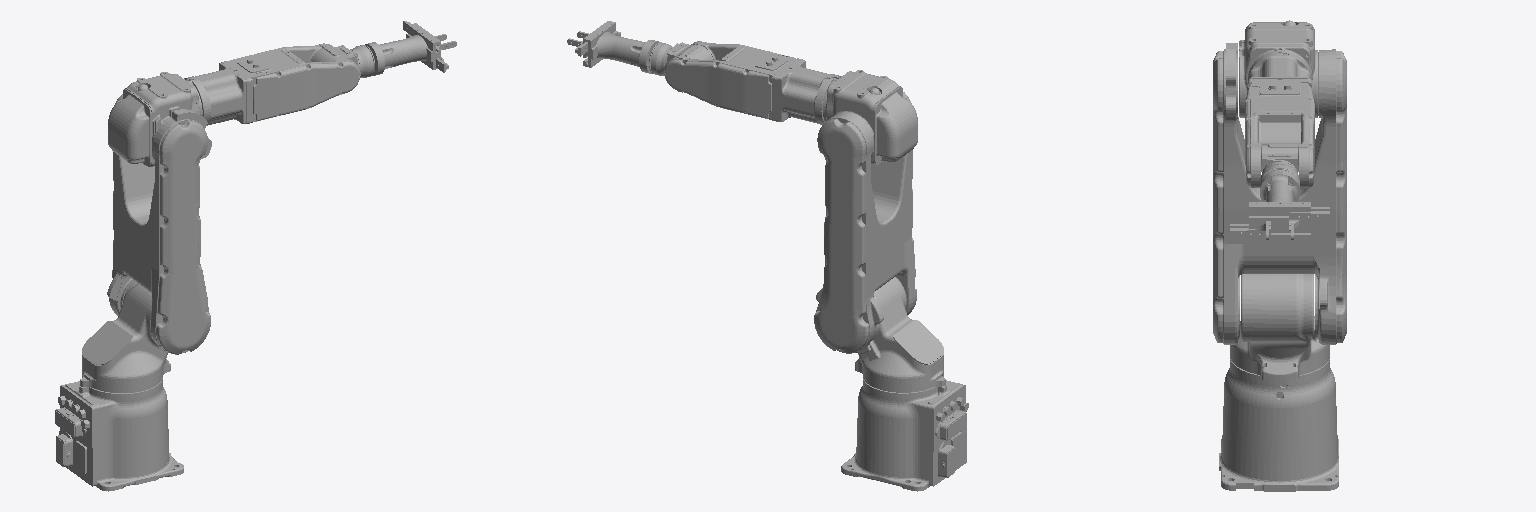
robot.urdf — mh5lsii:
<?xml version="1.0" ?>
<!-- =================================================================================== -->
<!-- |    This document was autogenerated by xacro from mh5lsii.xacro                  | -->
<!-- |    EDITING THIS FILE BY HAND IS NOT RECOMMENDED                                 | -->
<!-- =================================================================================== -->
<robot name="mh5lsii">
  <material name="silver">
    <color rgba="0.700 0.700 0.700 1.000"/>
  </material>
  <transmission name="rev1_tran">
    <type>transmission_interface/SimpleTransmission</type>
    <joint name="rev1">
      <hardwareInterface>hardware_interface/EffortJointInterface</hardwareInterface>
    </joint>
    <actuator name="rev1_actr">
      <hardwareInterface>hardware_interface/EffortJointInterface</hardwareInterface>
      <mechanicalReduction>1</mechanicalReduction>
    </actuator>
  </transmission>
  <transmission name="rev2_tran">
    <type>transmission_interface/SimpleTransmission</type>
    <joint name="rev2">
      <hardwareInterface>hardware_interface/EffortJointInterface</hardwareInterface>
    </joint>
    <actuator name="rev2_actr">
      <hardwareInterface>hardware_interface/EffortJointInterface</hardwareInterface>
      <mechanicalReduction>1</mechanicalReduction>
    </actuator>
  </transmission>
  <transmission name="rev3_tran">
    <type>transmission_interface/SimpleTransmission</type>
    <joint name="rev3">
      <hardwareInterface>hardware_interface/EffortJointInterface</hardwareInterface>
    </joint>
    <actuator name="rev3_actr">
      <hardwareInterface>hardware_interface/EffortJointInterface</hardwareInterface>
      <mechanicalReduction>1</mechanicalReduction>
    </actuator>
  </transmission>
  <transmission name="rev4_tran">
    <type>transmission_interface/SimpleTransmission</type>
    <joint name="rev4">
      <hardwareInterface>hardware_interface/EffortJointInterface</hardwareInterface>
    </joint>
    <actuator name="rev4_actr">
      <hardwareInterface>hardware_interface/EffortJointInterface</hardwareInterface>
      <mechanicalReduction>1</mechanicalReduction>
    </actuator>
  </transmission>
  <transmission name="rev5_tran">
    <type>transmission_interface/SimpleTransmission</type>
    <joint name="rev5">
      <hardwareInterface>hardware_interface/EffortJointInterface</hardwareInterface>
    </joint>
    <actuator name="rev5_actr">
      <hardwareInterface>hardware_interface/EffortJointInterface</hardwareInterface>
      <mechanicalReduction>1</mechanicalReduction>
    </actuator>
  </transmission>
  <transmission name="rev6_tran">
    <type>transmission_interface/SimpleTransmission</type>
    <joint name="rev6">
      <hardwareInterface>hardware_interface/EffortJointInterface</hardwareInterface>
    </joint>
    <actuator name="rev6_actr">
      <hardwareInterface>hardware_interface/EffortJointInterface</hardwareInterface>
      <mechanicalReduction>1</mechanicalReduction>
    </actuator>
  </transmission>
  <transmission name="slider9_tran">
    <type>transmission_interface/SimpleTransmission</type>
    <joint name="slider9">
      <hardwareInterface>hardware_interface/EffortJointInterface</hardwareInterface>
    </joint>
    <actuator name="slider9_actr">
      <hardwareInterface>hardware_interface/EffortJointInterface</hardwareInterface>
      <mechanicalReduction>1</mechanicalReduction>
    </actuator>
  </transmission>
  <transmission name="slider10_tran">
    <type>transmission_interface/SimpleTransmission</type>
    <joint name="slider10">
      <hardwareInterface>hardware_interface/EffortJointInterface</hardwareInterface>
    </joint>
    <actuator name="slider10_actr">
      <hardwareInterface>hardware_interface/EffortJointInterface</hardwareInterface>
      <mechanicalReduction>1</mechanicalReduction>
    </actuator>
  </transmission>
  <gazebo>
    <plugin filename="libgazebo_ros_control.so" name="control"/>
  </gazebo>
  <gazebo reference="base_link">
    <material>Gazebo/Silver</material>
    <mu1>0.2</mu1>
    <mu2>0.2</mu2>
    <selfCollide>true</selfCollide>
    <gravity>true</gravity>
  </gazebo>
  <gazebo reference="link_01_1">
    <material>Gazebo/Silver</material>
    <mu1>0.2</mu1>
    <mu2>0.2</mu2>
    <selfCollide>true</selfCollide>
  </gazebo>
  <gazebo reference="link_02_1">
    <material>Gazebo/Silver</material>
    <mu1>0.2</mu1>
    <mu2>0.2</mu2>
    <selfCollide>true</selfCollide>
  </gazebo>
  <gazebo reference="link_03_1">
    <material>Gazebo/Silver</material>
    <mu1>0.2</mu1>
    <mu2>0.2</mu2>
    <selfCollide>true</selfCollide>
  </gazebo>
  <gazebo reference="link_04_1">
    <material>Gazebo/Silver</material>
    <mu1>0.2</mu1>
    <mu2>0.2</mu2>
    <selfCollide>true</selfCollide>
  </gazebo>
  <gazebo reference="link_05_1">
    <material>Gazebo/Silver</material>
    <mu1>0.2</mu1>
    <mu2>0.2</mu2>
    <selfCollide>true</selfCollide>
  </gazebo>
  <gazebo reference="link_06_1">
    <material>Gazebo/Silver</material>
    <mu1>0.2</mu1>
    <mu2>0.2</mu2>
    <selfCollide>true</selfCollide>
  </gazebo>
  <gazebo reference="acople_1">
    <material>Gazebo/Silver</material>
    <mu1>0.2</mu1>
    <mu2>0.2</mu2>
    <selfCollide>true</selfCollide>
  </gazebo>
  <gazebo reference="ob7_2_1">
    <material>Gazebo/Silver</material>
    <mu1>0.2</mu1>
    <mu2>0.2</mu2>
    <selfCollide>true</selfCollide>
  </gazebo>
  <gazebo reference="ob7_slider_d_1">
    <material>Gazebo/Silver</material>
    <mu1>0.2</mu1>
    <mu2>0.2</mu2>
    <selfCollide>true</selfCollide>
  </gazebo>
  <gazebo reference="ob7_slider_i_1">
    <material>Gazebo/Silver</material>
    <mu1>0.2</mu1>
    <mu2>0.2</mu2>
    <selfCollide>true</selfCollide>
  </gazebo>
  <gazebo reference="ob7_finger_d_1">
    <material>Gazebo/Silver</material>
    <mu1>0.2</mu1>
    <mu2>0.2</mu2>
    <selfCollide>true</selfCollide>
  </gazebo>
  <gazebo reference="ob7_finger_i_1">
    <material>Gazebo/Silver</material>
    <mu1>0.2</mu1>
    <mu2>0.2</mu2>
    <selfCollide>true</selfCollide>
  </gazebo>
  <link name="base_link">
    <inertial>
      <origin rpy="0 0 0" xyz="-0.011090103739351596 0.00022797791882665918 0.10315518556214519"/>
      <mass value="6.766314683371327"/>
      <!-- <inertia ixx="0.039535" ixy="0.000175" ixz="-0.000486" iyy="0.044975" iyz="4.1e-05" izz="0.033128"/> -->
      <inertia ixx="0.039535" ixy="0.000175" ixz="-0.000486" iyy="0.044975" iyz="4.1e-05" izz="0.033128"/>
      
    </inertial>
    <visual>
      <origin rpy="0 0 0" xyz="0 0 0"/>
      <geometry>
        <mesh filename="package://mh5lsii_description/meshes/base_link.stl" scale="0.001 0.001 0.001"/>
      </geometry>
      <material name="silver"/>
    </visual>
    <collision>
      <origin rpy="0 0 0" xyz="0 0 0"/>
      <geometry>
        <mesh filename="package://mh5lsii_description/meshes/base_link.stl" scale="0.001 0.001 0.001"/>
      </geometry>
    </collision>
  </link>
  <link name="link_01_1">
    <inertial>
      <origin rpy="0 0 0" xyz="0.049423257467588036 -0.00240150574806688 0.06287800300541616"/>
      <mass value="2.74595411805442"/>
      <inertia ixx="0.009639" ixy="0.000288" ixz="-0.004201" iyy="0.014176" iyz="0.000294" izz="0.011386"/>
    </inertial>
    <visual>
      <origin rpy="0 0 0" xyz="0.0 -0.0 -0.229"/>
      <geometry>
        <mesh filename="package://mh5lsii_description/meshes/link_01_1.stl" scale="0.001 0.001 0.001"/>
      </geometry>
      <material name="silver"/>
    </visual>
    <collision>
      <origin rpy="0 0 0" xyz="0.0 -0.0 -0.229"/>
      <geometry>
        <mesh filename="package://mh5lsii_description/meshes/link_01_1.stl" scale="0.001 0.001 0.001"/>
      </geometry>
    </collision>
  </link>
  <link name="link_02_1">
    <inertial>
      <origin rpy="0 0 0" xyz="-0.005331923635036859 0.06418219806904472 0.17365649623351526"/>
      <mass value="6.763318661710877"/>
      <inertia ixx="0.149826" ixy="0.000123" ixz="-4.7e-05" iyy="0.116633" iyz="0.001011" izz="0.044132"/>
    </inertial>
    <visual>
      <origin rpy="0 0 0" xyz="-0.088 0.0635 -0.33"/>
      <geometry>
        <mesh filename="package://mh5lsii_description/meshes/link_02_1.stl" scale="0.001 0.001 0.001"/>
      </geometry>
      <material name="silver"/>
    </visual>
    <collision>
      <origin rpy="0 0 0" xyz="-0.088 0.0635 -0.33"/>
      <geometry>
        <mesh filename="package://mh5lsii_description/meshes/link_02_1.stl" scale="0.001 0.001 0.001"/>
      </geometry>
    </collision>
  </link>
  <link name="link_03_1">
    <inertial>
      <origin rpy="0 0 0" xyz="-0.010417850763689798 -0.06566047170765882 0.019063299663247935"/>
      <mass value="2.681871492262554"/>
      <inertia ixx="0.007254" ixy="3.3e-05" ixz="-0.000788" iyy="0.009118" iyz="-3.4e-05" izz="0.008082"/>
    </inertial>
    <visual>
      <origin rpy="0 0 0" xyz="-0.088 -0.0645 -0.73"/>
      <geometry>
        <mesh filename="package://mh5lsii_description/meshes/link_03_1.stl" scale="0.001 0.001 0.001"/>
      </geometry>
      <material name="silver"/>
    </visual>
    <collision>
      <origin rpy="0 0 0" xyz="-0.088 -0.0645 -0.73"/>
      <geometry>
        <mesh filename="package://mh5lsii_description/meshes/link_03_1.stl" scale="0.001 0.001 0.001"/>
      </geometry>
    </collision>
  </link>
  <link name="link_04_1">
    <inertial>
      <origin rpy="0 0 0" xyz="0.16098681758129338 -6.09203263927216e-06 0.00017633845563469475"/>
      <mass value="3.0345870906853607"/>
      <inertia ixx="0.005212" ixy="-1.2e-05" ixz="1e-06" iyy="0.026116" iyz="-8e-06" izz="0.027027"/>
    </inertial>
    <visual>
      <origin rpy="0 0 0" xyz="-0.1585 0.0 -0.77"/>
      <geometry>
        <mesh filename="package://mh5lsii_description/meshes/link_04_1.stl" scale="0.001 0.001 0.001"/>
      </geometry>
      <material name="silver"/>
    </visual>
    <collision>
      <origin rpy="0 0 0" xyz="-0.1585 0.0 -0.77"/>
      <geometry>
        <mesh filename="package://mh5lsii_description/meshes/link_04_1.stl" scale="0.001 0.001 0.001"/>
      </geometry>
    </collision>
  </link>
  <link name="link_05_1">
    <inertial>
      <origin rpy="0 0 0" xyz="0.015586640791618978 -0.030964064569894863 -0.00016446853214213686"/>
      <mass value="0.37951137478480873"/>
      <inertia ixx="0.00025" ixy="0.0" ixz="-1e-06" iyy="0.000452" iyz="1e-06" izz="0.000432"/>
    </inertial>
    <visual>
      <origin rpy="0 0 0" xyz="-0.493 -0.030999 -0.770249"/>
      <geometry>
        <mesh filename="package://mh5lsii_description/meshes/link_05_1.stl" scale="0.001 0.001 0.001"/>
      </geometry>
      <material name="silver"/>
    </visual>
    <collision>
      <origin rpy="0 0 0" xyz="-0.493 -0.030999 -0.770249"/>
      <geometry>
        <mesh filename="package://mh5lsii_description/meshes/link_05_1.stl" scale="0.001 0.001 0.001"/>
      </geometry>
    </collision>
  </link>
  <link name="link_06_1">
    <inertial>
      <origin rpy="0 0 0" xyz="0.01450144512471463 -4.057700439152878e-07 4.975171074528273e-05"/>
      <mass value="0.04311612297123868"/>
      <inertia ixx="1.1e-05" ixy="0.0" ixz="-0.0" iyy="8e-06" iyz="-0.0" izz="8e-06"/>
    </inertial>
    <visual>
      <origin rpy="0 0 0" xyz="-0.5435 0.0 -0.77"/>
      <geometry>
        <mesh filename="package://mh5lsii_description/meshes/link_06_1.stl" scale="0.001 0.001 0.001"/>
      </geometry>
      <material name="silver"/>
    </visual>
    <collision>
      <origin rpy="0 0 0" xyz="-0.5435 0.0 -0.77"/>
      <geometry>
        <mesh filename="package://mh5lsii_description/meshes/link_06_1.stl" scale="0.001 0.001 0.001"/>
      </geometry>
    </collision>
  </link>
  <link name="acople_1">
    <inertial>
      <origin rpy="0 0 0" xyz="0.015817002581675066 6.69007210366947e-07 -1.1276651433744789e-06"/>
      <mass value="0.055705114869669475"/>
      <inertia ixx="2.8e-05" ixy="0.0" ixz="-0.0" iyy="1.5e-05" iyz="0.0" izz="1.5e-05"/>
    </inertial>
    <visual>
      <origin rpy="0 0 0" xyz="-0.567 0.0 -0.77"/>
      <geometry>
        <mesh filename="package://mh5lsii_description/meshes/acople_1.stl" scale="0.001 0.001 0.001"/>
      </geometry>
      <material name="silver"/>
    </visual>
    <collision>
      <origin rpy="0 0 0" xyz="-0.567 0.0 -0.77"/>
      <geometry>
        <mesh filename="package://mh5lsii_description/meshes/acople_1.stl" scale="0.001 0.001 0.001"/>
      </geometry>
    </collision>
  </link>
  <link name="ob7_2_1">
    <inertial>
      <origin rpy="0 0 0" xyz="0.07017691342571097 1.194951294536395e-07 -3.4271062391288964e-06"/>
      <mass value="0.3085040405049697"/>
      <inertia ixx="0.000178" ixy="-0.0" ixz="0.0" iyy="0.00053" iyz="-0.0" izz="0.000577"/>
    </inertial>
    <visual>
      <origin rpy="0 0 0" xyz="-0.590997 0.0 -0.77"/>
      <geometry>
        <mesh filename="package://mh5lsii_description/meshes/ob7_2_1.stl" scale="0.001 0.001 0.001"/>
      </geometry>
      <material name="silver"/>
    </visual>
    <collision>
      <origin rpy="0 0 0" xyz="-0.590997 0.0 -0.77"/>
      <geometry>
        <mesh filename="package://mh5lsii_description/meshes/ob7_2_1.stl" scale="0.001 0.001 0.001"/>
      </geometry>
    </collision>
  </link>
  <link name="ob7_slider_d_1">
    <inertial>
      <origin rpy="0 0 0" xyz="-0.04811466000799036 -0.668746099494158 -0.7750009636934996"/>
      <mass value="0.009612890331661439"/>
      <inertia ixx="3e-06" ixy="-0.0" ixz="-0.0" iyy="0.0" iyz="-0.0" izz="3e-06"/>
    </inertial>
    <visual>
      <origin rpy="0 0 0" xyz="-0.756306 -0.645957 -1.560159"/>
      <geometry>
        <mesh filename="package://mh5lsii_description/meshes/ob7_slider_d_1.stl" scale="0.001 0.001 0.001"/>
      </geometry>
      <material name="silver"/>
    </visual>
    <collision>
      <origin rpy="0 0 0" xyz="-0.756306 -0.645957 -1.560159"/>
      <geometry>
        <mesh filename="package://mh5lsii_description/meshes/ob7_slider_d_1.stl" scale="0.001 0.001 0.001"/>
      </geometry>
    </collision>
  </link>
  <link name="ob7_slider_i_1">
    <inertial>
      <origin rpy="0 0 0" xyz="0.053043310821363376 -0.6234089045465261 -0.7754502350968029"/>
      <mass value="0.009612890331661439"/>
      <inertia ixx="3e-06" ixy="0.0" ixz="0.0" iyy="0.0" iyz="-0.0" izz="3e-06"/>
    </inertial>
    <visual>
      <origin rpy="0 0 0" xyz="-0.655148 -0.646198 -1.530291"/>
      <geometry>
        <mesh filename="package://mh5lsii_description/meshes/ob7_slider_i_1.stl" scale="0.001 0.001 0.001"/>
      </geometry>
      <material name="silver"/>
    </visual>
    <collision>
      <origin rpy="0 0 0" xyz="-0.655148 -0.646198 -1.530291"/>
      <geometry>
        <mesh filename="package://mh5lsii_description/meshes/ob7_slider_i_1.stl" scale="0.001 0.001 0.001"/>
      </geometry>
    </collision>
  </link>
  <link name="ob7_finger_d_1">
    <inertial>
      <origin rpy="0 0 0" xyz="0.01307070022070067 -0.007894728170446508 -0.01047603512321127"/>
      <mass value="0.0070860389185776985"/>
      <inertia ixx="1e-06" ixy="0.0" ixz="0.0" iyy="2e-06" iyz="-0.0" izz="2e-06"/>
    </inertial>
    <visual>
      <origin rpy="0 0 0" xyz="-0.716674 0.045499 -0.784975"/>
      <geometry>
        <mesh filename="package://mh5lsii_description/meshes/ob7_finger_d_1.stl" scale="0.001 0.001 0.001"/>
      </geometry>
      <material name="silver"/>
    </visual>
    <collision>
      <origin rpy="0 0 0" xyz="-0.716674 0.045499 -0.784975"/>
      <geometry>
        <mesh filename="package://mh5lsii_description/meshes/ob7_finger_d_1.stl" scale="0.001 0.001 0.001"/>
      </geometry>
    </collision>
  </link>
  <link name="ob7_finger_i_1">
    <inertial>
      <origin rpy="0 0 0" xyz="0.013070691827939629 0.007894724006787111 0.010475794671614747"/>
      <mass value="0.0070860389185776985"/>
      <inertia ixx="1e-06" ixy="-0.0" ixz="-0.0" iyy="2e-06" iyz="-0.0" izz="2e-06"/>
    </inertial>
    <visual>
      <origin rpy="0 0 0" xyz="-0.716674 -0.045499 -0.755024"/>
      <geometry>
        <mesh filename="package://mh5lsii_description/meshes/ob7_finger_i_1.stl" scale="0.001 0.001 0.001"/>
      </geometry>
      <material name="silver"/>
    </visual>
    <collision>
      <origin rpy="0 0 0" xyz="-0.716674 -0.045499 -0.755024"/>
      <geometry>
        <mesh filename="package://mh5lsii_description/meshes/ob7_finger_i_1.stl" scale="0.001 0.001 0.001"/>
      </geometry>
    </collision>
  </link>
  <joint name="rev1" type="revolute">
    <origin rpy="0 0 0" xyz="0.0 0.0 0.229"/>
    <parent link="base_link"/>
    <child link="link_01_1"/>
    <axis xyz="0 -0.0 1.0"/>
    <limit effort="100" lower="-2.96706" upper="2.96706" velocity="100"/>
  </joint>
  <joint name="rev2" type="revolute">
    <origin rpy="0 0 0" xyz="0.088 -0.0635 0.101"/>
    <parent link="link_01_1"/>
    <child link="link_02_1"/>
    <axis xyz="-0.0 -1.0 -0.0"/>
    <limit effort="100" lower="-2.617994" upper="1.134464" velocity="100"/>
  </joint>
  <joint name="rev3" type="revolute">
    <origin rpy="0 0 0" xyz="0.0 0.128 0.4"/>
    <parent link="link_02_1"/>
    <child link="link_03_1"/>
    <axis xyz="-0.0 -1.0 0.0"/>
    <limit effort="100" lower="-0.558505" upper="3.316126" velocity="100"/>
  </joint>
  <joint name="rev4" type="continuous">
    <origin rpy="0 0 0" xyz="0.0705 -0.0645 0.04"/>
    <parent link="link_03_1"/>
    <child link="link_04_1"/>
    <axis xyz="1.0 -0.0 0"/>
  </joint>
  <joint name="rev5" type="revolute">
    <origin rpy="0 0 0" xyz="0.3345 0.030999 0.000249"/>
    <parent link="link_04_1"/>
    <child link="link_05_1"/>
    <axis xyz="-0.0 -1 -0"/>
    <limit effort="100" lower="-2.356194" upper="2.356194" velocity="100"/>
  </joint>
  <joint name="rev6" type="continuous">
    <origin rpy="0 0 0" xyz="0.0505 -0.030999 -0.000249"/>
    <parent link="link_05_1"/>
    <child link="link_06_1"/>
    <axis xyz="1.0 -0.0 -0"/>
  </joint>
  <joint name="rig7" type="fixed">
    <origin rpy="0 0 0" xyz="0.0235 0.0 0.0"/>
    <parent link="link_06_1"/>
    <child link="acople_1"/>
  </joint>
  <joint name="rig8" type="fixed">
    <origin rpy="0 0 0" xyz="0.023997 0.0 0.0"/>
    <parent link="acople_1"/>
    <child link="ob7_2_1"/>
  </joint>
  <joint name="slider9" type="prismatic">
    <origin rpy="0 0 0" xyz="0.165309 0.645957 0.790159"/>
    <parent link="ob7_2_1"/>
    <child link="ob7_slider_d_1"/>
    <axis xyz="-0.0 -1 -0"/>
    <limit effort="100" lower="-0.1" upper="-0.055" velocity="100"/>
  </joint>
  <joint name="slider10" type="prismatic">
    <origin rpy="0 0 0" xyz="0.064151 0.646198 0.760291"/>
    <parent link="ob7_2_1"/>
    <child link="ob7_slider_i_1"/>
    <axis xyz="0.0 1 0"/>
    <limit effort="100" lower="-0.1" upper="-0.055" velocity="100"/>
  </joint>
  <joint name="rig11" type="fixed">
    <origin rpy="0 0 0" xyz="-0.039632 -0.691456 -0.775184"/>
    <parent link="ob7_slider_d_1"/>
    <child link="ob7_finger_d_1"/>
  </joint>
  <joint name="rig12" type="fixed">
    <origin rpy="0 0 0" xyz="0.061526 -0.600699 -0.775267"/>
    <parent link="ob7_slider_i_1"/>
    <child link="ob7_finger_i_1"/>
  </joint>
</robot>

--- What the picture shows (computed from the rendered views, not written in the file) ---
Views: 3 orthographic renders of the robot side by side, from view 1: azimuth 30°, elevation 25°; view 2: azimuth 150°, elevation 25°; view 3: azimuth 270°, elevation 25°.
Model mh5lsii with 13 links and 12 joints (4 revolute, 2 continuous, 2 prismatic, 4 fixed), rooted at base_link, posed all joints at 0 but 2 set to mid-range because 0 is outside their limits (slider9 = -0.0775, slider10 = -0.0775).
Links seen in each view (by area): view 1: link_02_1, base_link, link_04_1, link_01_1, link_03_1, ob7_2_1, link_05_1; view 2: link_02_1, base_link, link_04_1, link_01_1, link_03_1, ob7_2_1, link_05_1; view 3: link_02_1, base_link, link_01_1, link_04_1, link_03_1, ob7_2_1, link_05_1.
Boxes of the visible links, left/top/right/bottom form: link_02_1: left=107, top=94, right=211, bottom=354; base_link: left=55, top=378, right=183, bottom=491; link_04_1: left=184, top=43, right=360, bottom=125; link_01_1: left=80, top=281, right=170, bottom=392; link_03_1: left=108, top=72, right=202, bottom=166; ob7_2_1: left=372, top=23, right=440, bottom=74; link_05_1: left=312, top=45, right=374, bottom=84; link_02_1: left=814, top=92, right=916, bottom=353; base_link: left=841, top=379, right=968, bottom=491; link_04_1: left=664, top=41, right=841, bottom=124; link_01_1: left=855, top=277, right=945, bottom=392; link_03_1: left=823, top=70, right=917, bottom=164; ob7_2_1: left=583, top=21, right=651, bottom=72; link_05_1: left=649, top=42, right=712, bottom=75; link_02_1: left=1213, top=43, right=1346, bottom=344; base_link: left=1219, top=359, right=1338, bottom=491; link_01_1: left=1230, top=274, right=1329, bottom=381; link_04_1: left=1245, top=51, right=1314, bottom=188; link_03_1: left=1239, top=20, right=1318, bottom=117; ob7_2_1: left=1249, top=172, right=1310, bottom=240; link_05_1: left=1260, top=144, right=1299, bottom=182.
Bounding box of the posed robot: 0.8987 × 0.22 × 0.8296 m (x, y, z).
Meshes: 13 distinct files referenced, 13 mesh visuals loaded (13 binary STL).
